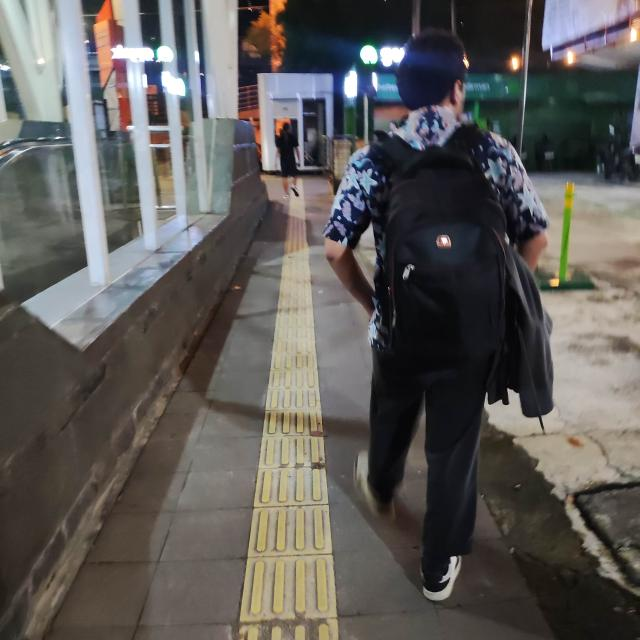lurus: (254, 196, 340, 633)
